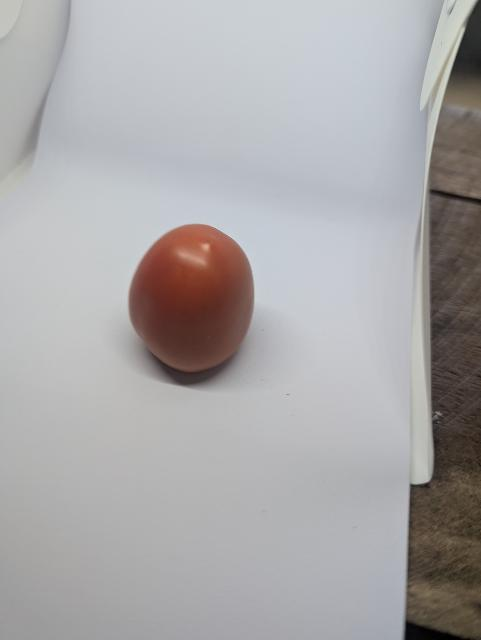red: (125, 217, 265, 381)
